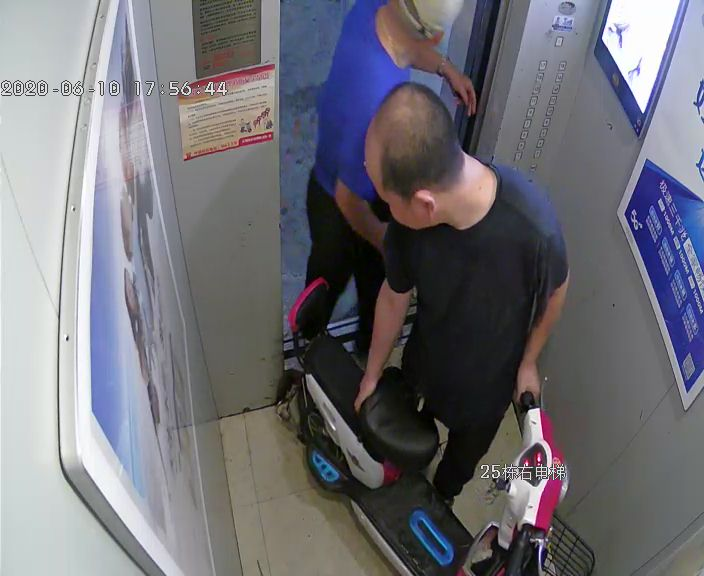Electric-bicycle: (289, 282, 568, 576)
